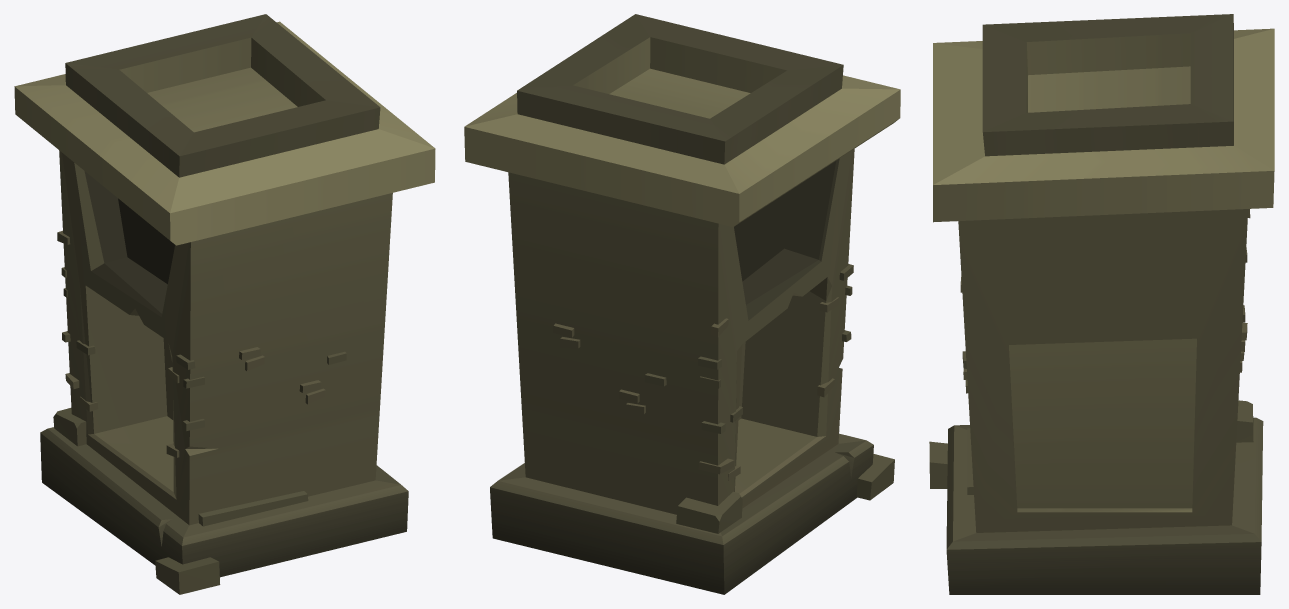
File: ea_bld_tomb_niche_mossy_class_c_01a_pre__6__lev1.glb
The picture shows the model from 3 angles, left to right: view 1: azimuth 30°, elevation 25°; view 2: azimuth 150°, elevation 25°; view 3: azimuth 270°, elevation 25°; orthographic projection. The views are drawn at different scales.
Visible parts, largest first — view 1: ea_bld_tomb_niche_mossy_class_c_01a_pre__6__lev1; view 2: ea_bld_tomb_niche_mossy_class_c_01a_pre__6__lev1; view 3: ea_bld_tomb_niche_mossy_class_c_01a_pre__6__lev1.
Part boxes in pixels (x1=…): ea_bld_tomb_niche_mossy_class_c_01a_pre__6__lev1: x1=14, y1=14, x2=435, y2=594; ea_bld_tomb_niche_mossy_class_c_01a_pre__6__lev1: x1=464, y1=14, x2=900, y2=594; ea_bld_tomb_niche_mossy_class_c_01a_pre__6__lev1: x1=929, y1=14, x2=1274, y2=594.
Bounding box in the file's own units: 2.81 × 4.3 × 2.88.
1 material, 1 textured.
